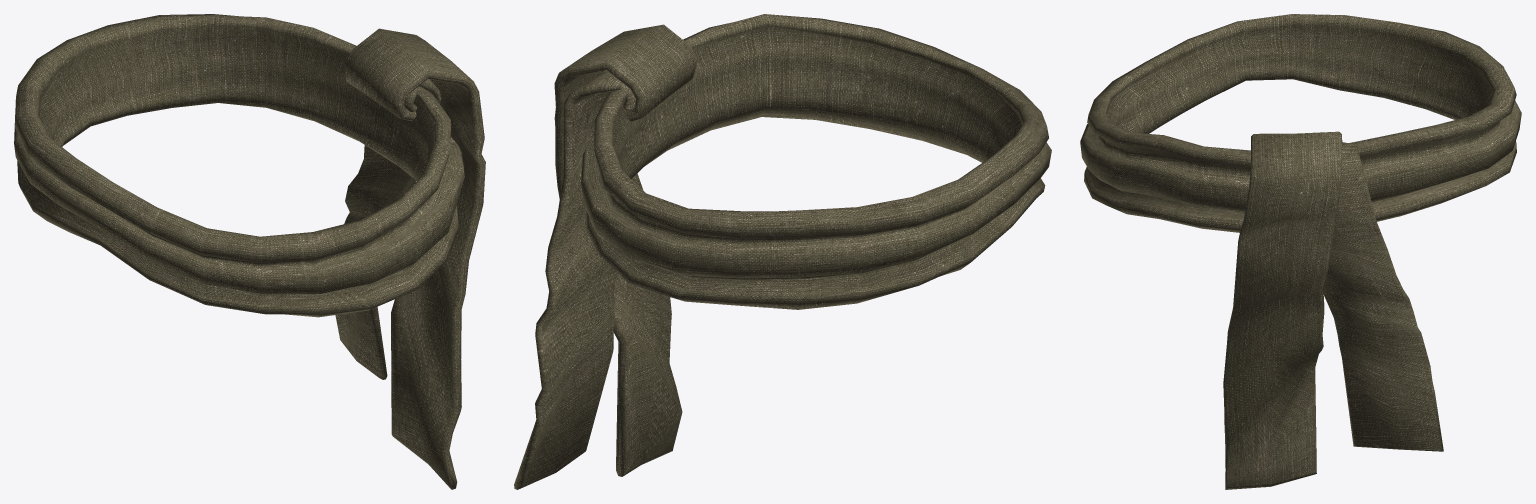
File: linen_sash.glb
3 views of the same model, side by side, from view 1: azimuth 30°, elevation 25°; view 2: azimuth 150°, elevation 25°; view 3: azimuth 270°, elevation 25° (orthographic). The views are drawn at different scales.
Visible parts, largest first — view 1: linen_sash; view 2: linen_sash; view 3: linen_sash.
Boxes of the visible parts, x1,y1,x2,y2 form: linen_sash: (14, 14, 485, 489); linen_sash: (514, 14, 1051, 489); linen_sash: (1080, 14, 1521, 489).
Bounding box in the file's own units: 0.2372 × 0.23 × 0.2596.
Materials: 1 (1 with a texture image).
